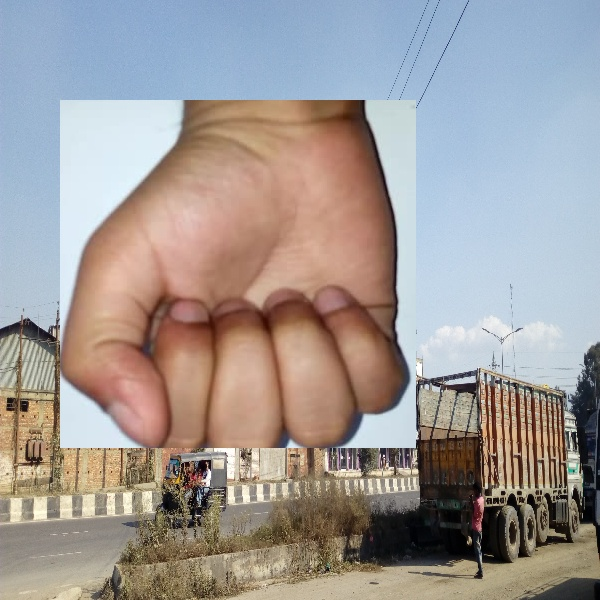A: (60, 100, 416, 448)
